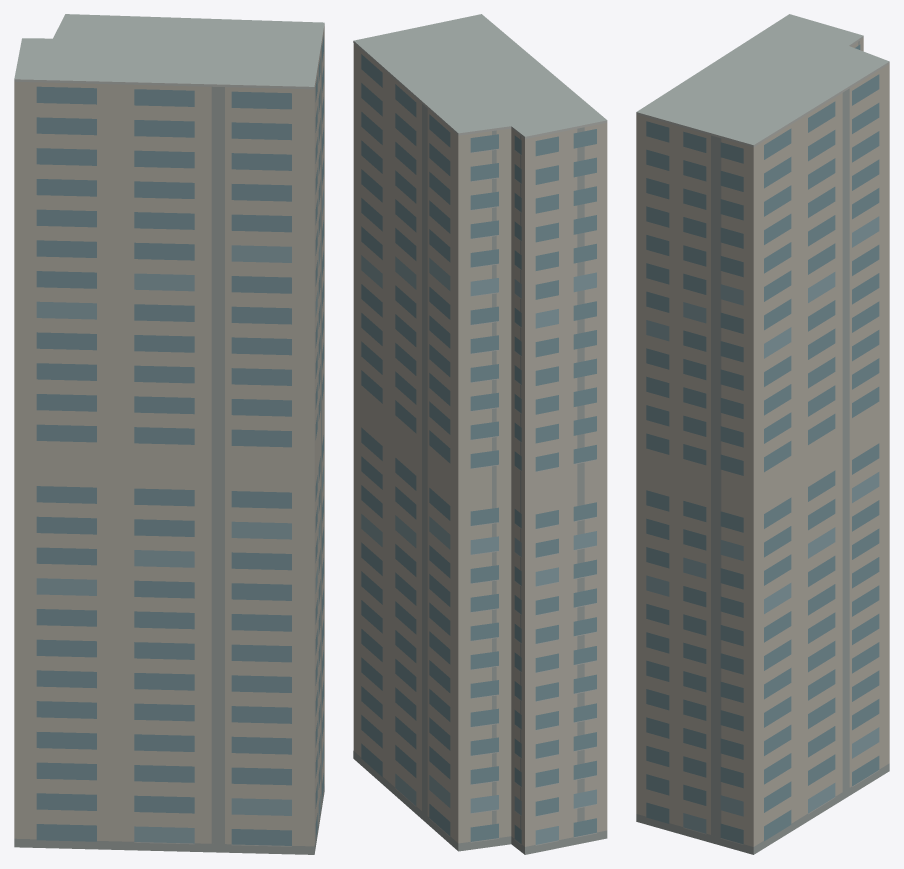
Rendered from survey-upis-32633075.glb.
3 views of the same model, side by side, from view 1: azimuth 30°, elevation 25°; view 2: azimuth 150°, elevation 25°; view 3: azimuth 270°, elevation 25° (orthographic). The views are drawn at different scales.
Visible parts, largest first — view 1: survey-upis-32633075.tmp; view 2: survey-upis-32633075.tmp; view 3: survey-upis-32633075.tmp.
Boxes of the visible parts, box(x1,y1,x2,y2) form: survey-upis-32633075.tmp: box(14, 14, 324, 854); survey-upis-32633075.tmp: box(353, 14, 607, 854); survey-upis-32633075.tmp: box(636, 14, 889, 854).
Bounding box in the file's own units: 30.25 × 76.25 × 24.67.
